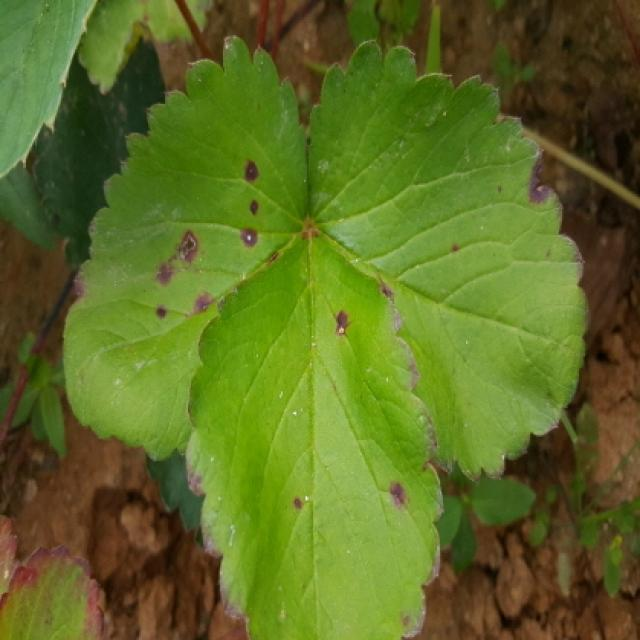Leaf Spot: (306, 38, 593, 487), (186, 221, 445, 638), (64, 34, 309, 464)
